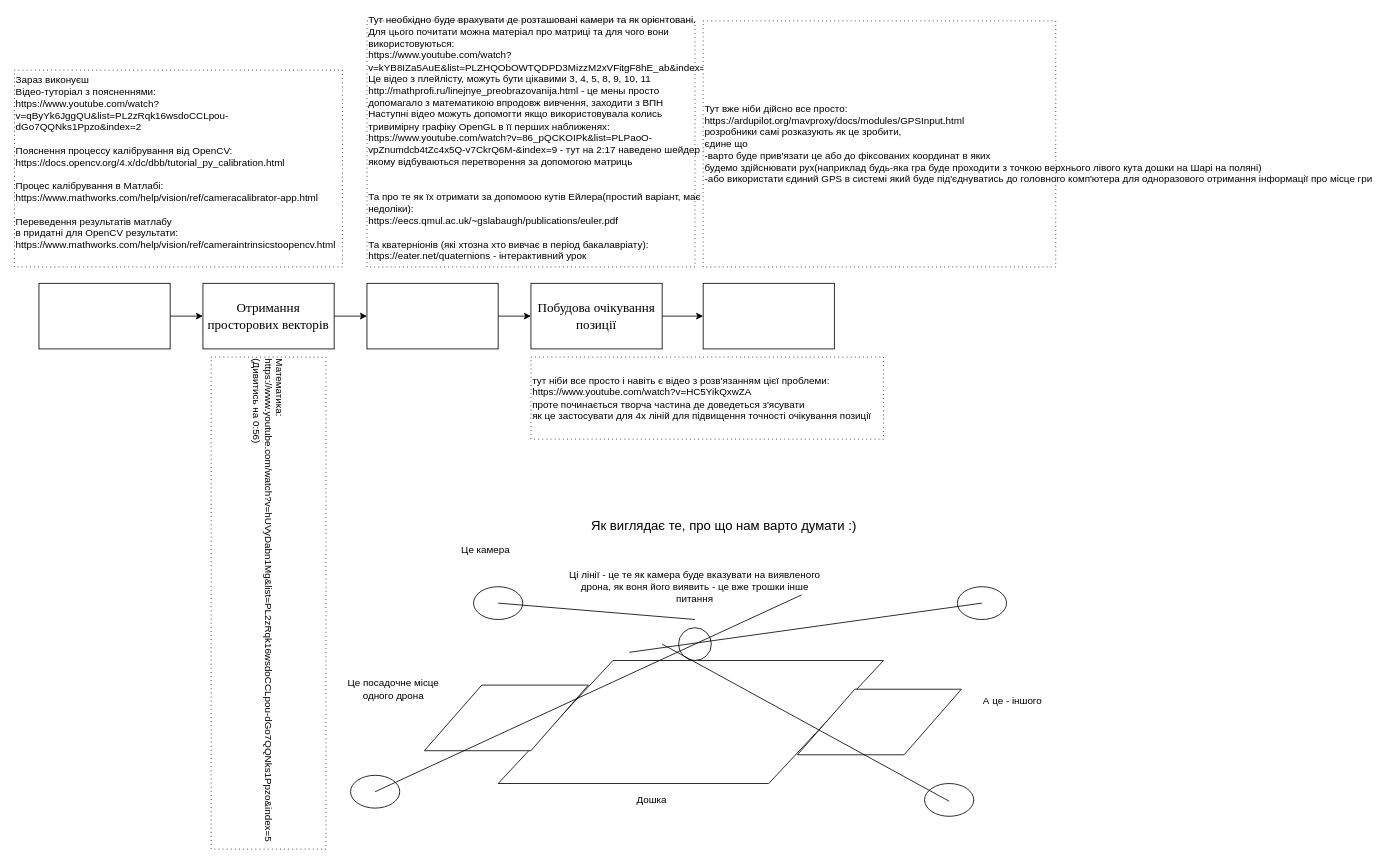
Some shapes in this 1387 by 863 pixel diagram are drawn without their labels. The box of each missing label's shape, as (x1, y1, x2, y2) in pixels:
Заведення даних про позицію в БПЛА: (702, 282, 834, 349)
Зведення отриманих від декількох камер векторів в єдиний координатний простір: (366, 282, 498, 349)
Калібрування камер: (38, 282, 170, 349)
